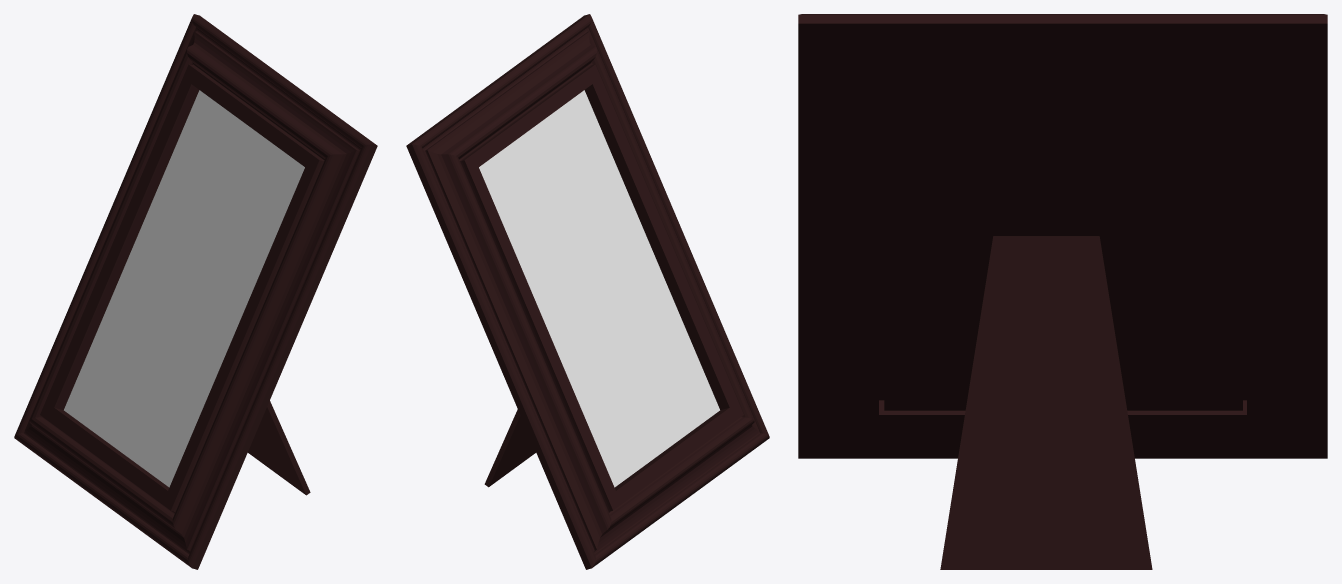
Rendered from photo-frame-with-stand-fbx.fbx.
The picture shows the model from 3 angles, left to right: view 1: azimuth 30°, elevation 25°; view 2: azimuth 150°, elevation 25°; view 3: azimuth 270°, elevation 25°; orthographic projection. The views are drawn at different scales.
Visible parts, largest first — view 1: frame-with-stand, stand; view 2: frame-with-stand, stand; view 3: frame-with-stand, backing, stand.
Boxes of the visible parts, <box> form: frame-with-stand: <box>14,14,377,569</box>; stand: <box>248,400,310,495</box>; frame-with-stand: <box>406,14,769,569</box>; stand: <box>484,409,535,487</box>; frame-with-stand: <box>798,14,1327,458</box>; backing: <box>884,67,1242,410</box>; stand: <box>940,236,1152,569</box>.
Bounding box in the file's own units: 0.1453 × 0.2844 × 0.2393.
